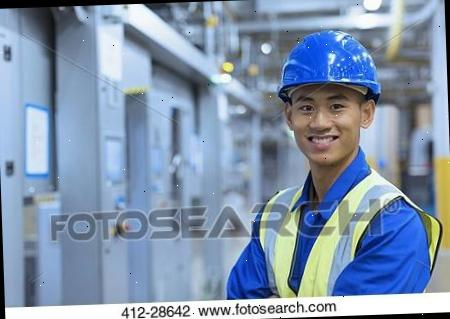helmet: (277, 29, 385, 94)
wear: (228, 172, 438, 300)
